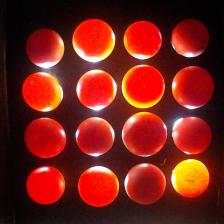fertile: (122, 112, 167, 157), (172, 66, 215, 110), (124, 162, 166, 205), (24, 118, 66, 158), (75, 116, 115, 156), (26, 28, 65, 67), (173, 116, 212, 155), (172, 18, 210, 58)
infertile: (122, 64, 165, 110), (72, 18, 116, 62), (78, 166, 119, 207), (76, 69, 117, 110), (22, 72, 63, 111), (170, 158, 210, 197), (124, 20, 162, 60), (26, 166, 65, 204)
